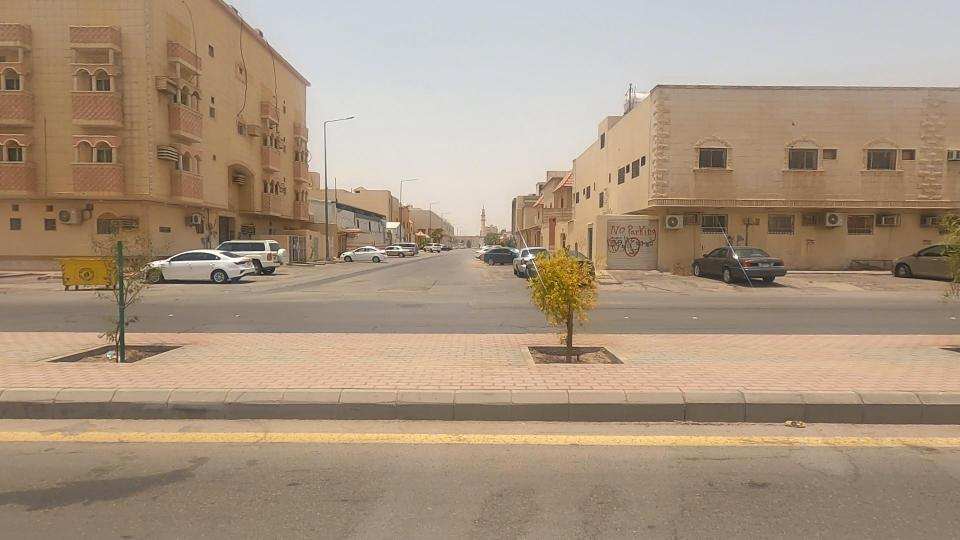GRAFFITI: (568, 198, 690, 290)
